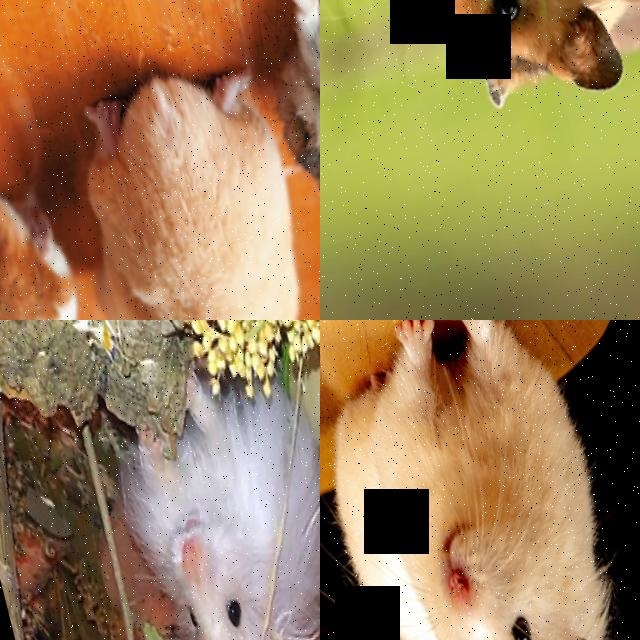hamster: (320, 320, 640, 640), (50, 56, 320, 320), (98, 368, 320, 640), (394, 0, 640, 130), (240, 0, 320, 237)
